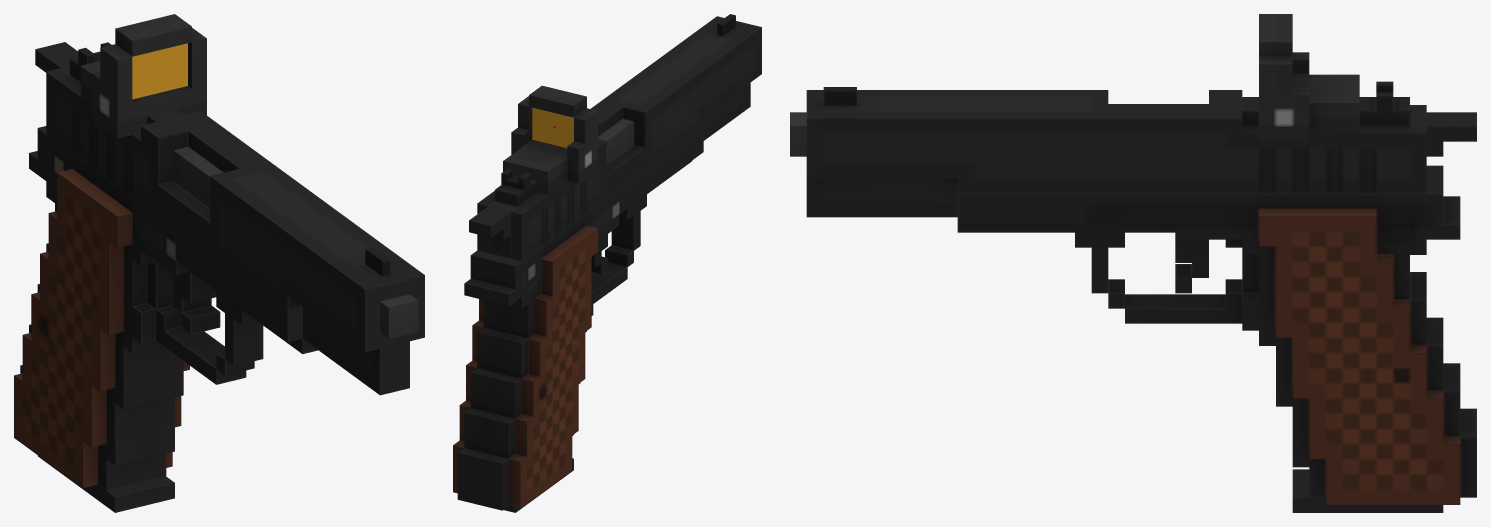
The model's file is RD_BROWNING.glb.
The picture shows the model from 3 angles, left to right: view 1: azimuth 30°, elevation 25°; view 2: azimuth 150°, elevation 25°; view 3: azimuth 270°, elevation 25°; orthographic projection. The views are drawn at different scales.
Visible parts, largest first — view 1: BROWNING_HI_POWER, BROWNING_HI_POWER_FRAME, SCOPE_TRIJICON, BROWNING_HI_POWER_CLIP, BROWNING_HI_POWER_TRIGGER; view 2: BROWNING_HI_POWER, BROWNING_HI_POWER_FRAME, SCOPE_TRIJICON, BROWNING_HI_POWER_TRIGGER; view 3: BROWNING_HI_POWER, BROWNING_HI_POWER_FRAME, SCOPE_TRIJICON, BROWNING_HI_POWER_TRIGGER, BROWNING_HI_POWER_CLIP.
Part boxes in pixels (x1,y1,x2,y2): BROWNING_HI_POWER: [14, 126, 418, 490]; BROWNING_HI_POWER_FRAME: [46, 42, 424, 395]; SCOPE_TRIJICON: [80, 14, 206, 138]; BROWNING_HI_POWER_CLIP: [37, 455, 174, 512]; BROWNING_HI_POWER_TRIGGER: [35, 42, 78, 73]; BROWNING_HI_POWER: [453, 119, 703, 510]; BROWNING_HI_POWER_FRAME: [477, 14, 761, 261]; SCOPE_TRIJICON: [503, 85, 598, 195]; BROWNING_HI_POWER_TRIGGER: [469, 201, 516, 258]; BROWNING_HI_POWER: [790, 112, 1476, 504]; BROWNING_HI_POWER_FRAME: [806, 81, 1426, 217]; SCOPE_TRIJICON: [1259, 14, 1359, 140]; BROWNING_HI_POWER_TRIGGER: [1410, 112, 1476, 156]; BROWNING_HI_POWER_CLIP: [1292, 469, 1443, 512].
Size of the model in its own units: 0.0591 by 0.3051 by 0.4035.
Materials: 3 (3 with a texture image).
